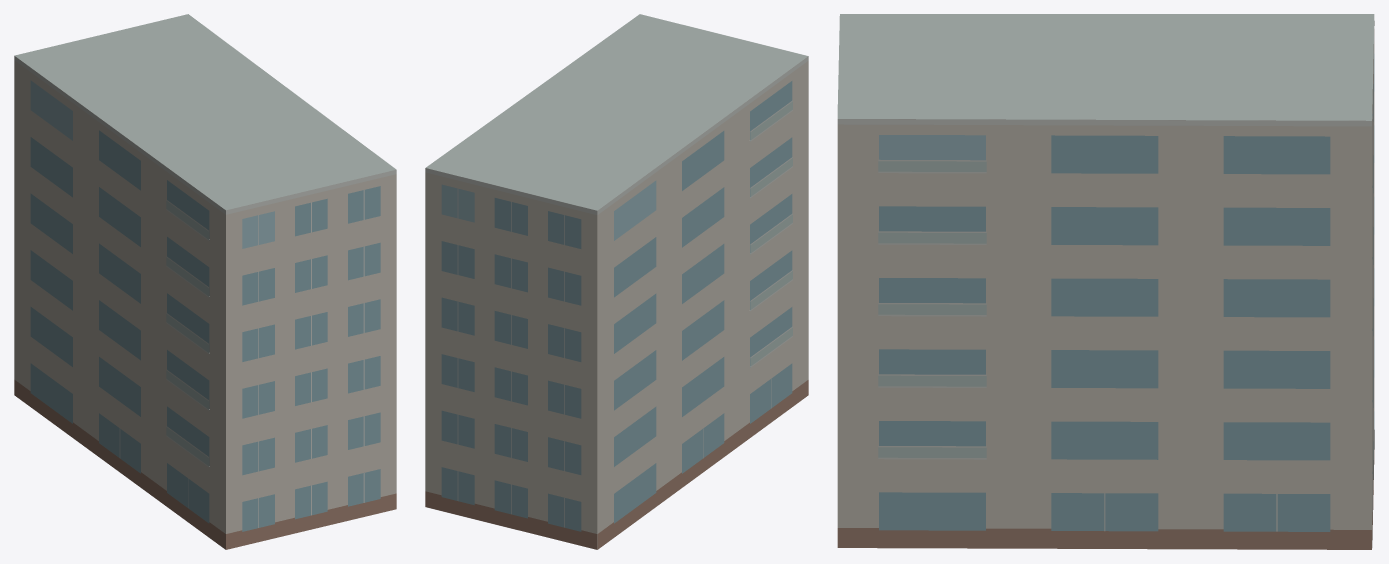
Rendered from survey-upis-32488536.glb.
3 renders of one model, left to right at view 1: azimuth 30°, elevation 25°; view 2: azimuth 150°, elevation 25°; view 3: azimuth 270°, elevation 25°, orthographic. The views are drawn at different scales.
Parts seen in each view (by area): view 1: survey-upis-32488536.tmp; view 2: survey-upis-32488536.tmp; view 3: survey-upis-32488536.tmp.
Part boxes in pixels (bbox=[...]): survey-upis-32488536.tmp: bbox=[14, 14, 396, 549]; survey-upis-32488536.tmp: bbox=[425, 14, 808, 549]; survey-upis-32488536.tmp: bbox=[837, 14, 1374, 549].
Size of the model in its own units: 9.97 by 18.6 by 21.11.
